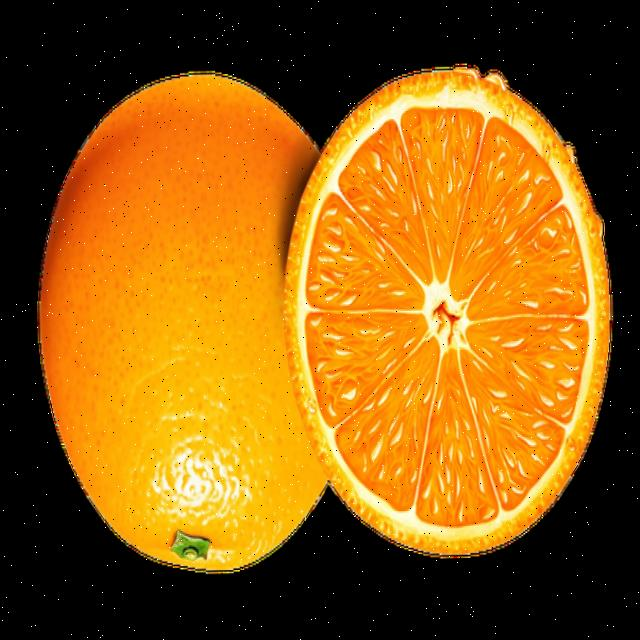Jeruk: (278, 60, 616, 562), (33, 69, 333, 578)
